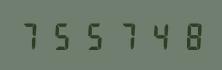eight: (173, 20, 203, 50)
five: (48, 20, 78, 50), (80, 20, 110, 50)
four: (142, 20, 172, 50)
seven: (17, 20, 47, 50), (111, 20, 141, 50)
